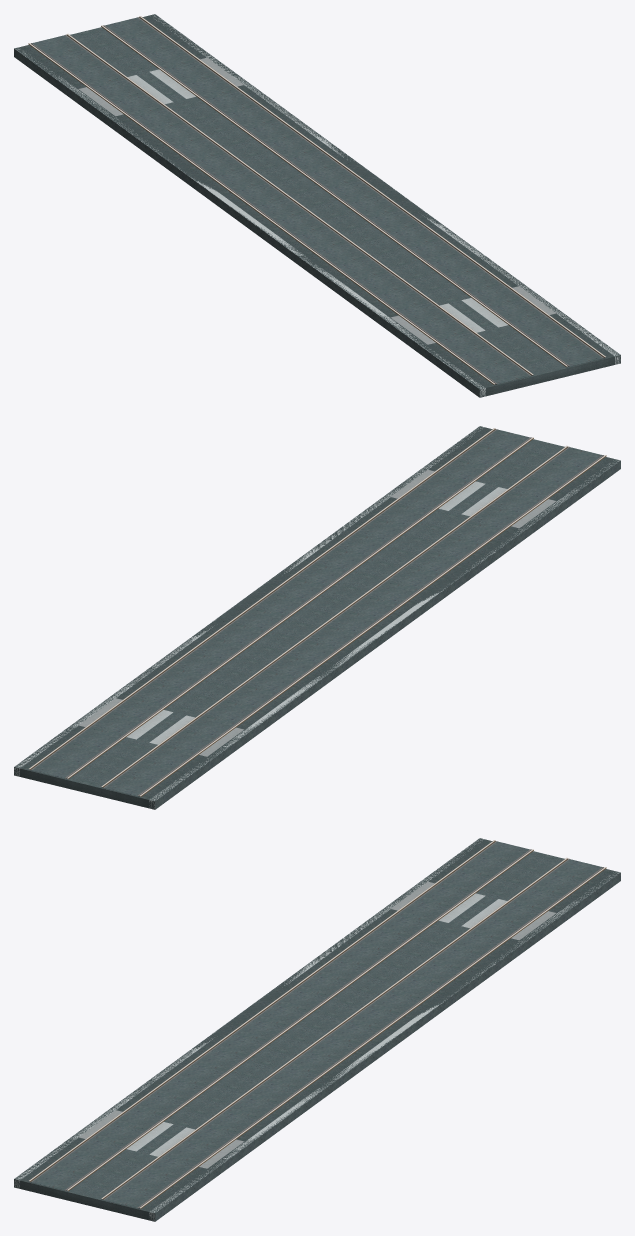
File: K_KAITEN_CROSS_B.glb
3 renders of one model, top to bottom at view 1: azimuth 30°, elevation 25°; view 2: azimuth 150°, elevation 25°; view 3: azimuth 330°, elevation 25°, orthographic.
Visible parts, largest first — view 1: rail, norm, obj1; view 2: rail, norm, obj1; view 3: rail, norm, obj1.
Part boxes in pixels (left/top/right/bottom): rail: left=15, top=15, right=620, bottom=397; norm: left=14, top=14, right=620, bottom=397; obj1: left=78, top=57, right=555, bottom=344; rail: left=14, top=426, right=620, bottom=808; norm: left=14, top=426, right=620, bottom=809; obj1: left=78, top=469, right=556, bottom=756; rail: left=14, top=838, right=620, bottom=1221; norm: left=14, top=838, right=620, bottom=1221; obj1: left=79, top=881, right=556, bottom=1168.
Bounding box in the file's own units: 17.5 × 6.22 × 100.
Materials: 7 (7 with a texture image).
